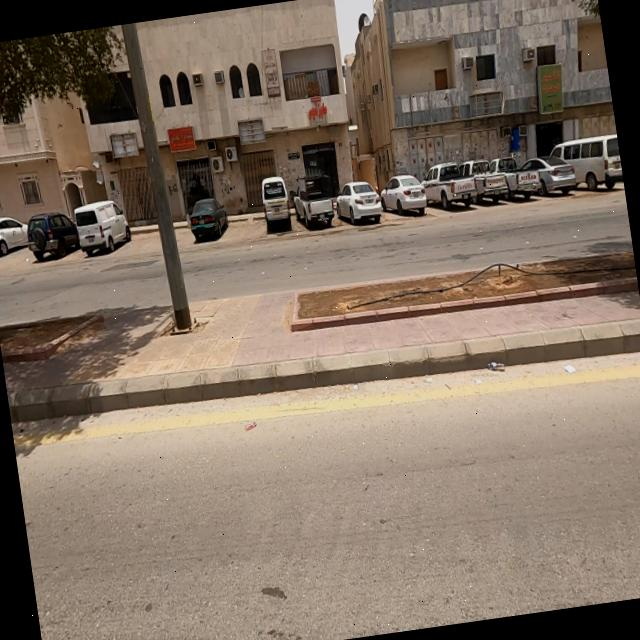Graffiti: (221, 184, 237, 200), (169, 182, 180, 198), (285, 178, 295, 192)
